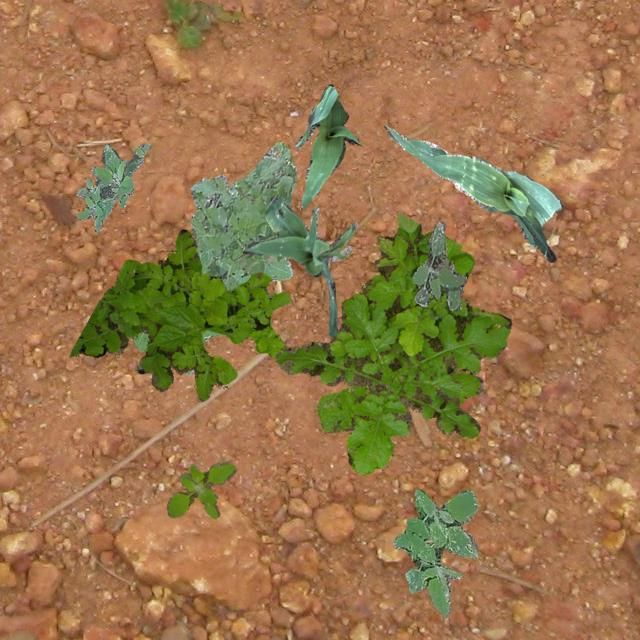crop: (384, 125, 562, 262), (240, 194, 356, 336), (294, 84, 360, 206)
weed: (274, 212, 511, 474), (132, 140, 296, 374), (68, 228, 290, 400), (392, 488, 478, 616), (316, 372, 484, 432), (76, 142, 150, 230), (412, 220, 466, 310), (166, 460, 236, 518)
